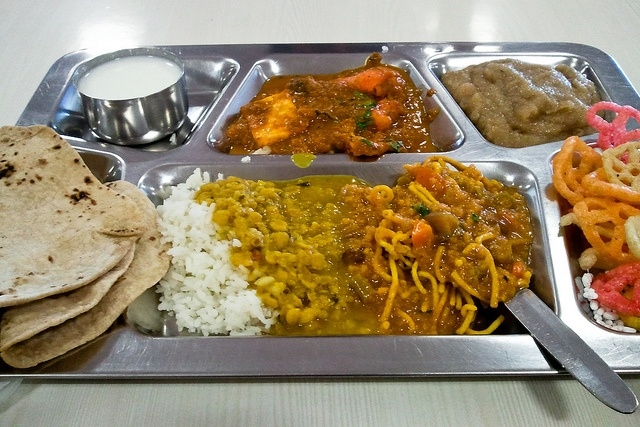bowl: (132, 167, 338, 339), (0, 140, 128, 405), (352, 165, 519, 343), (207, 51, 447, 163), (540, 137, 640, 341), (430, 45, 614, 147), (65, 49, 209, 161)
